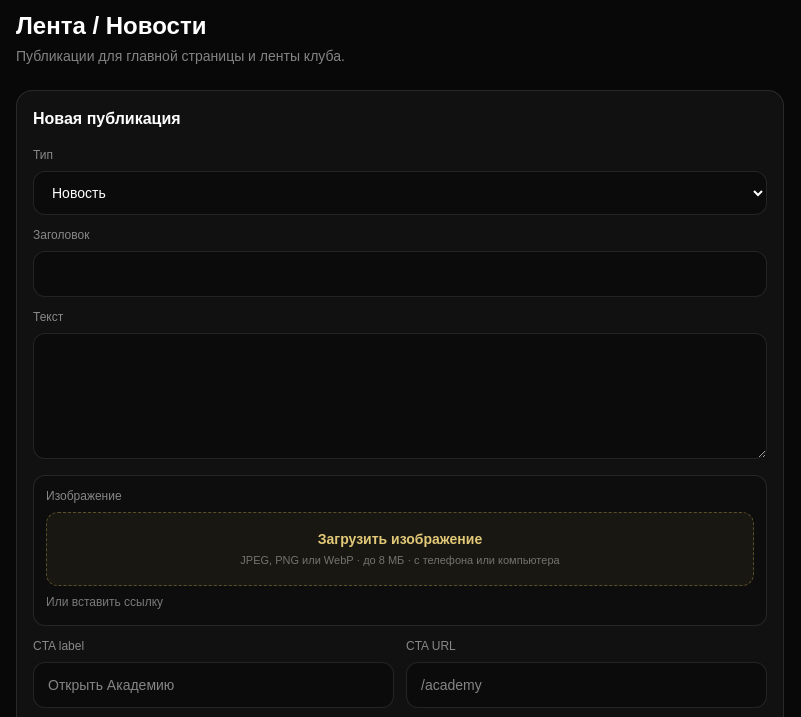
Test case: /admin/news image upload UX › offers file upload as the primary control and the URL input only behind 'Или вставить ссылку'
The image size is (801, 717).
Expected: the button that starts with "Загрузить изображение" is shown, [46, 512, 754, 586]
Click the button "Или вставить ссылку": (105, 602) [46, 594, 163, 610]
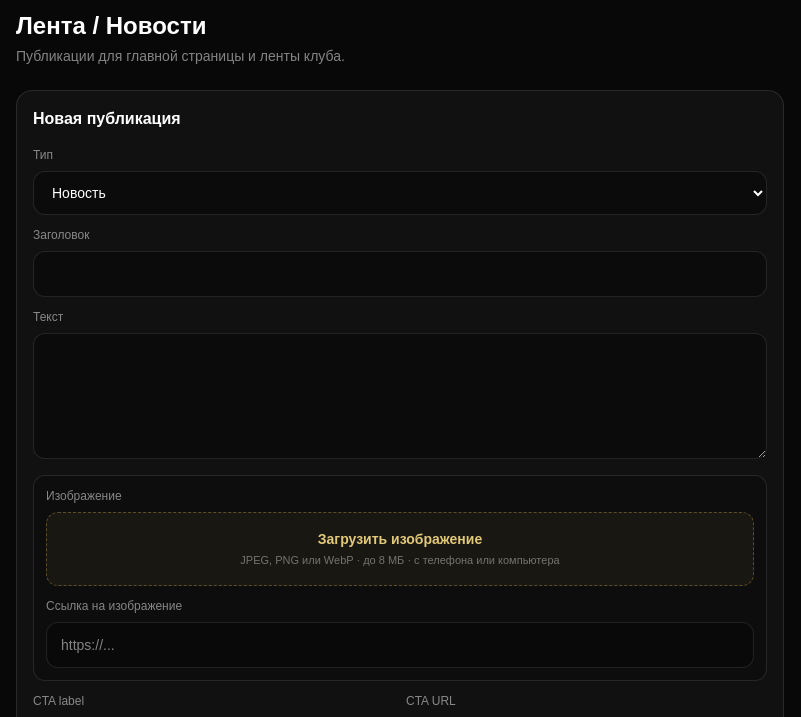
Expected: the field labelled "Ссылка на изображение" is shown, [46, 622, 754, 668]
